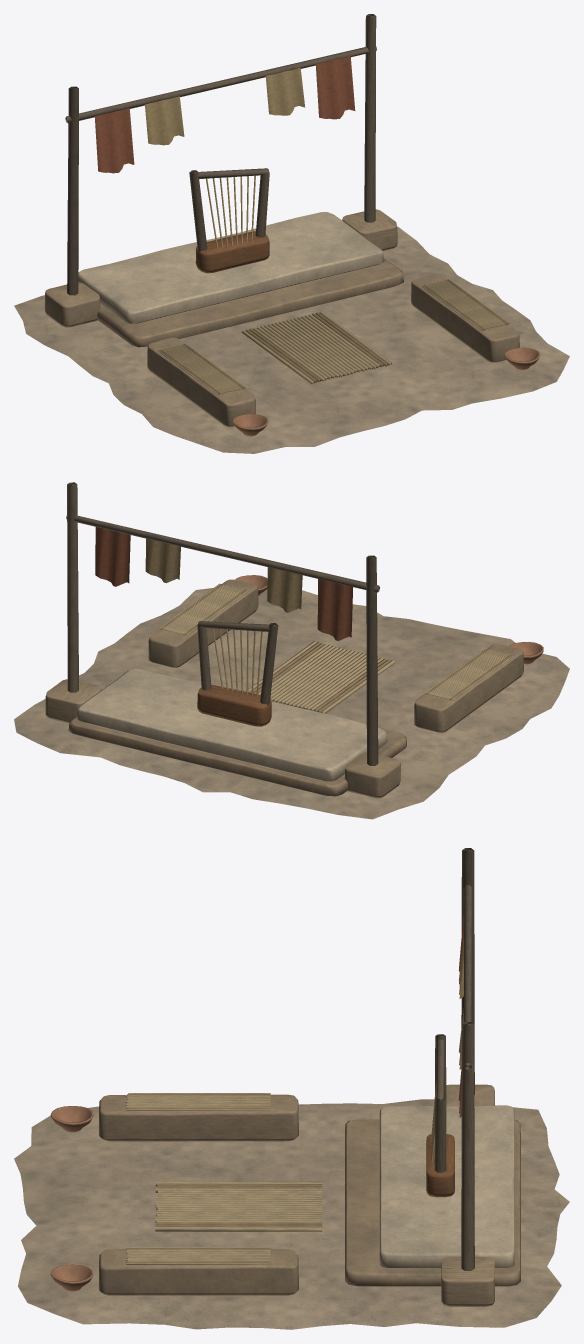
File: festival-square.glb
3 views of the same model, one above another, from view 1: azimuth 30°, elevation 25°; view 2: azimuth 150°, elevation 25°; view 3: azimuth 270°, elevation 25° (orthographic). The views are drawn at different scales.
Parts seen in each view (by area): view 1: festival-square; view 2: festival-square; view 3: festival-square.
Part boxes in pixels (box(x1,y1,x2,y2)): festival-square: box(14, 14, 569, 453); festival-square: box(14, 482, 569, 819); festival-square: box(14, 848, 569, 1329).
Size of the model in its own units: 4.97 by 2.8 by 5.06.
Materials: 6 (6 with a texture image).
